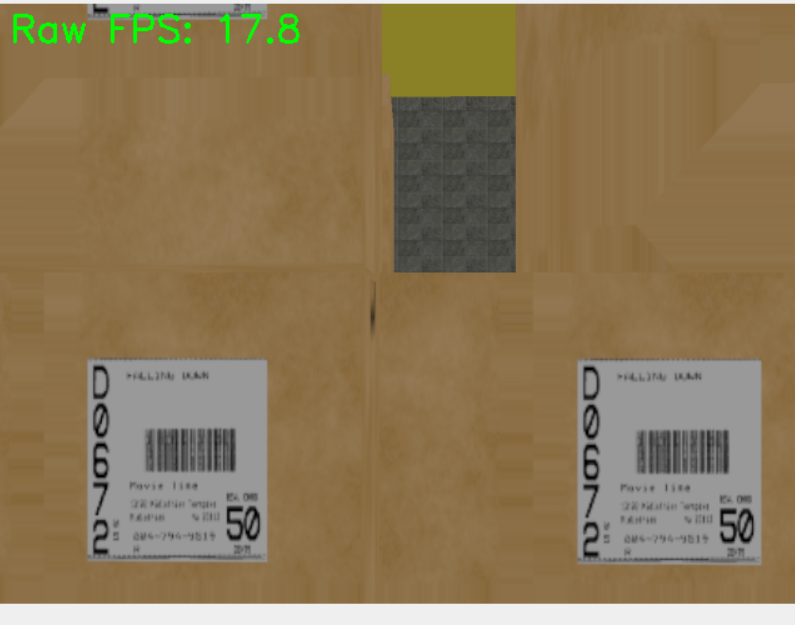barcode: (575, 358, 764, 567), (86, 358, 268, 564)
